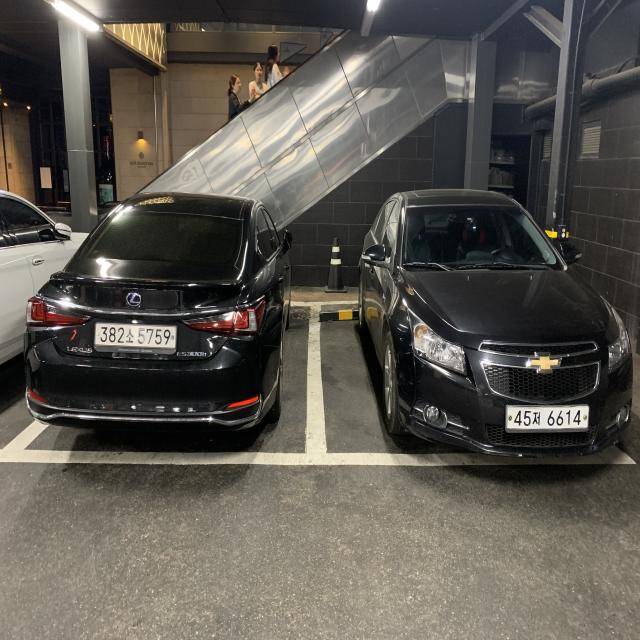occupied: (355, 190, 634, 460), (24, 192, 292, 437)
